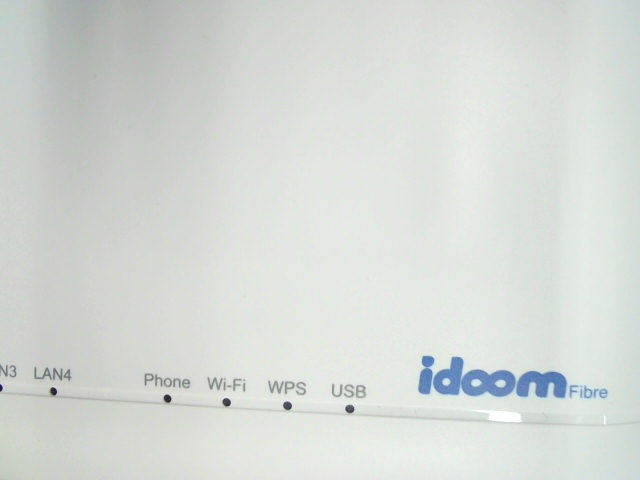BB_idoom: (412, 346, 617, 427)
